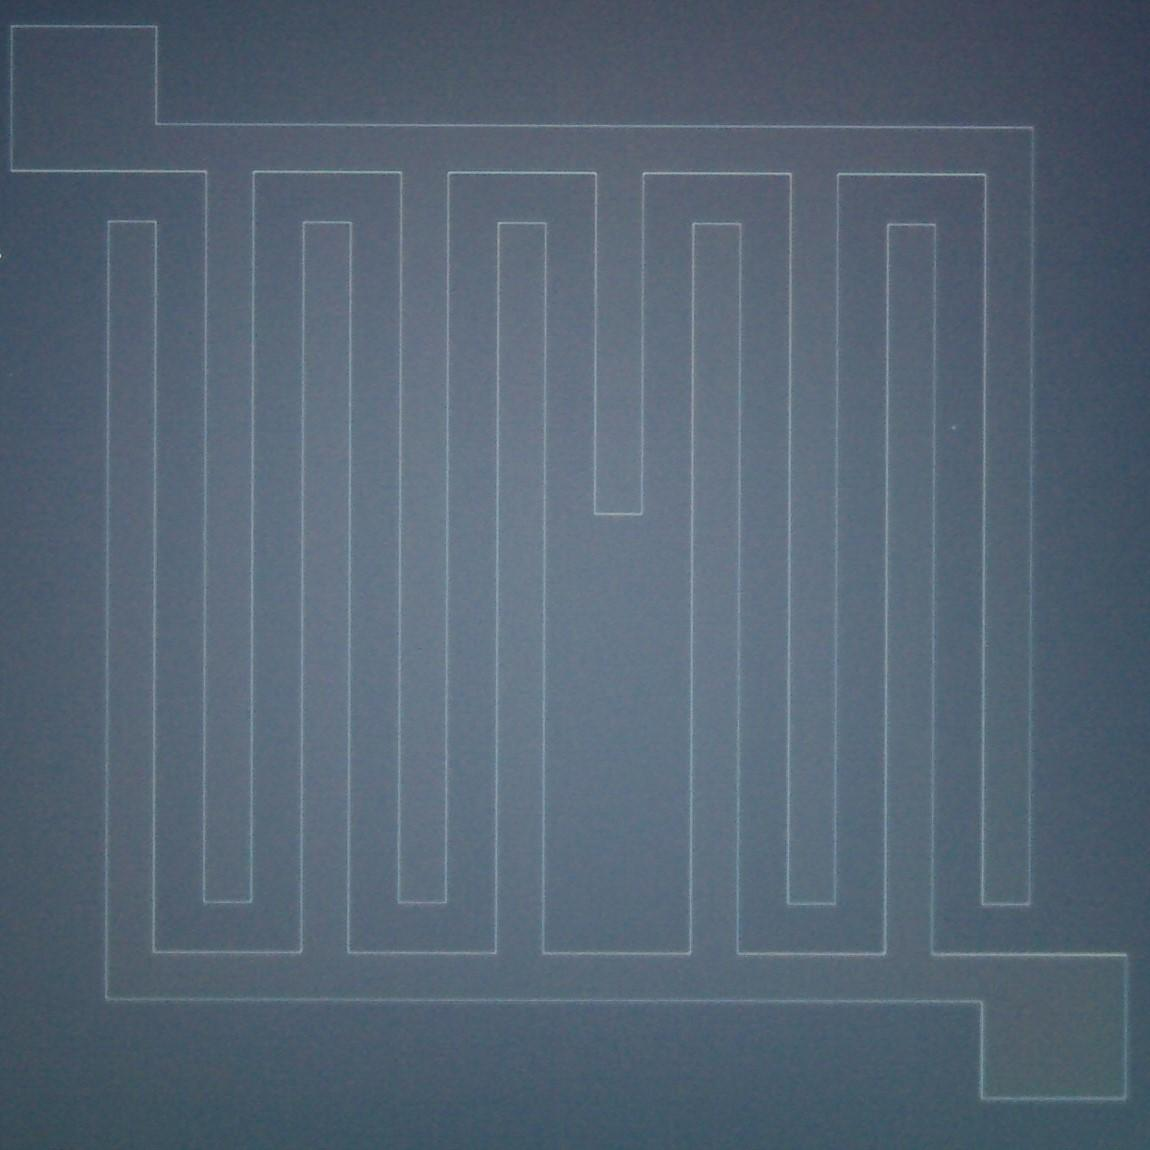s_point: (946, 420, 960, 435), (0, 252, 4, 262)
short: (529, 106, 712, 972)
